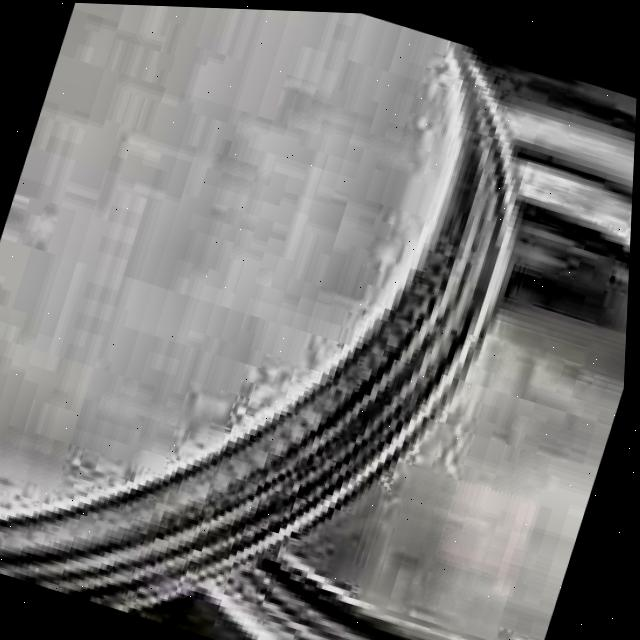metal: (0, 2, 637, 640)
